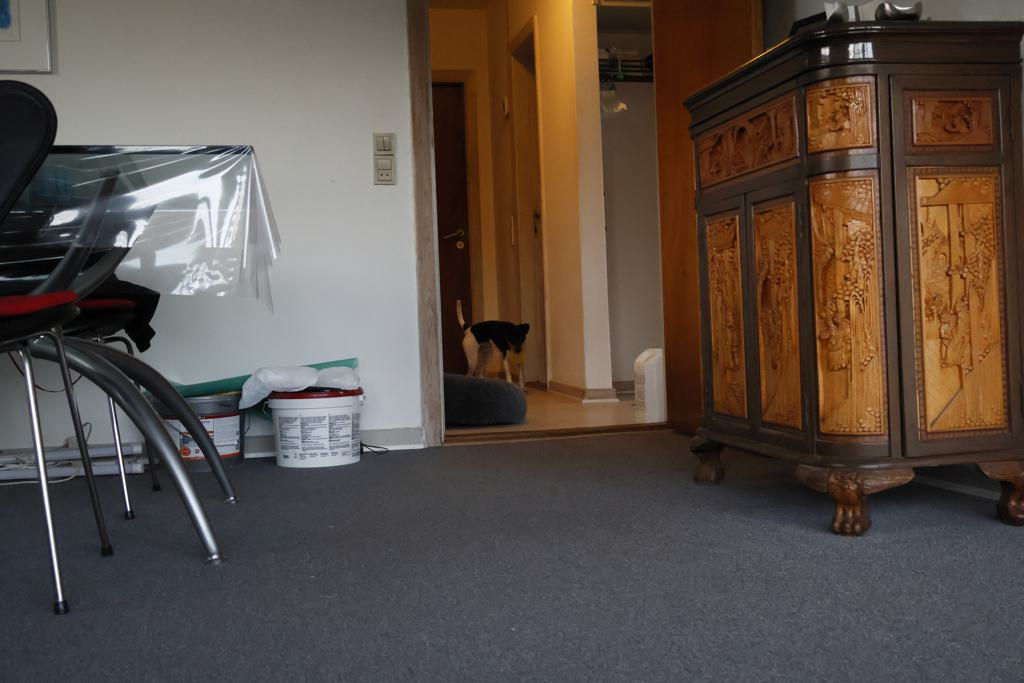Dog: (454, 297, 537, 396)
